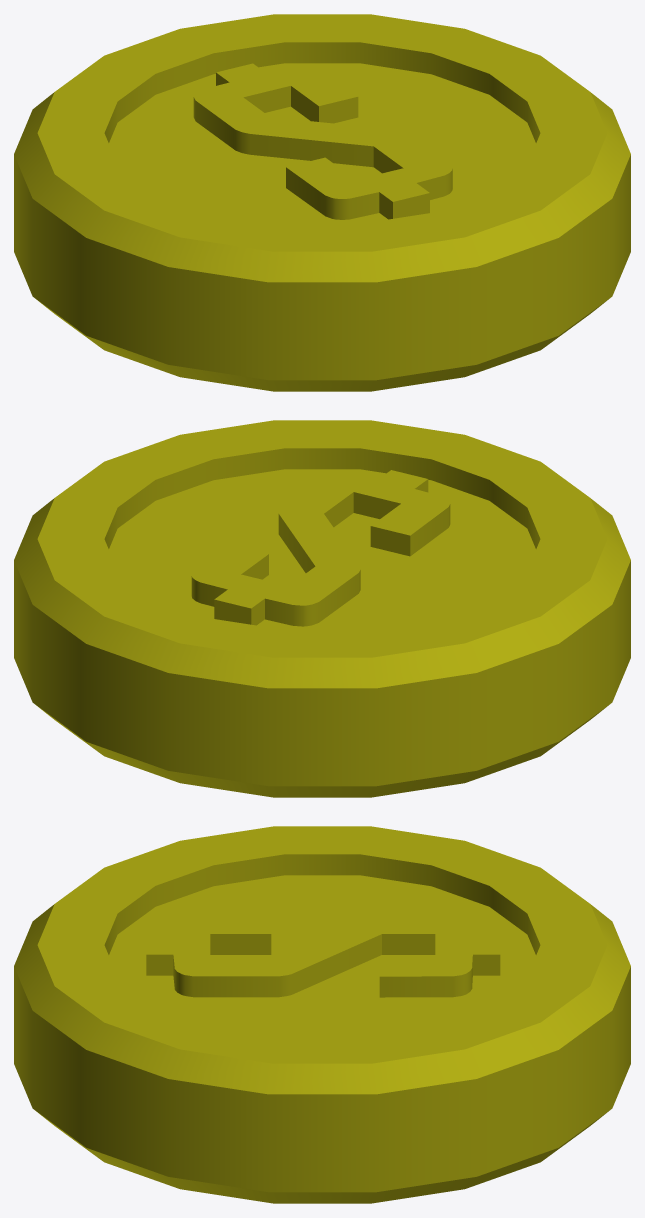
Rendered from Coin.glb.
The picture shows the model from 3 angles, top to bottom: view 1: azimuth 30°, elevation 25°; view 2: azimuth 150°, elevation 25°; view 3: azimuth 270°, elevation 25°; orthographic projection.
Visible parts, largest first — view 1: Coin; view 2: Coin; view 3: Coin.
Boxes of the visible parts, x1,y1,x2,y2 form: Coin: [14, 14, 630, 391]; Coin: [14, 420, 630, 797]; Coin: [14, 826, 630, 1203].
Bounding box in the file's own units: 1.97 × 0.5004 × 2.
